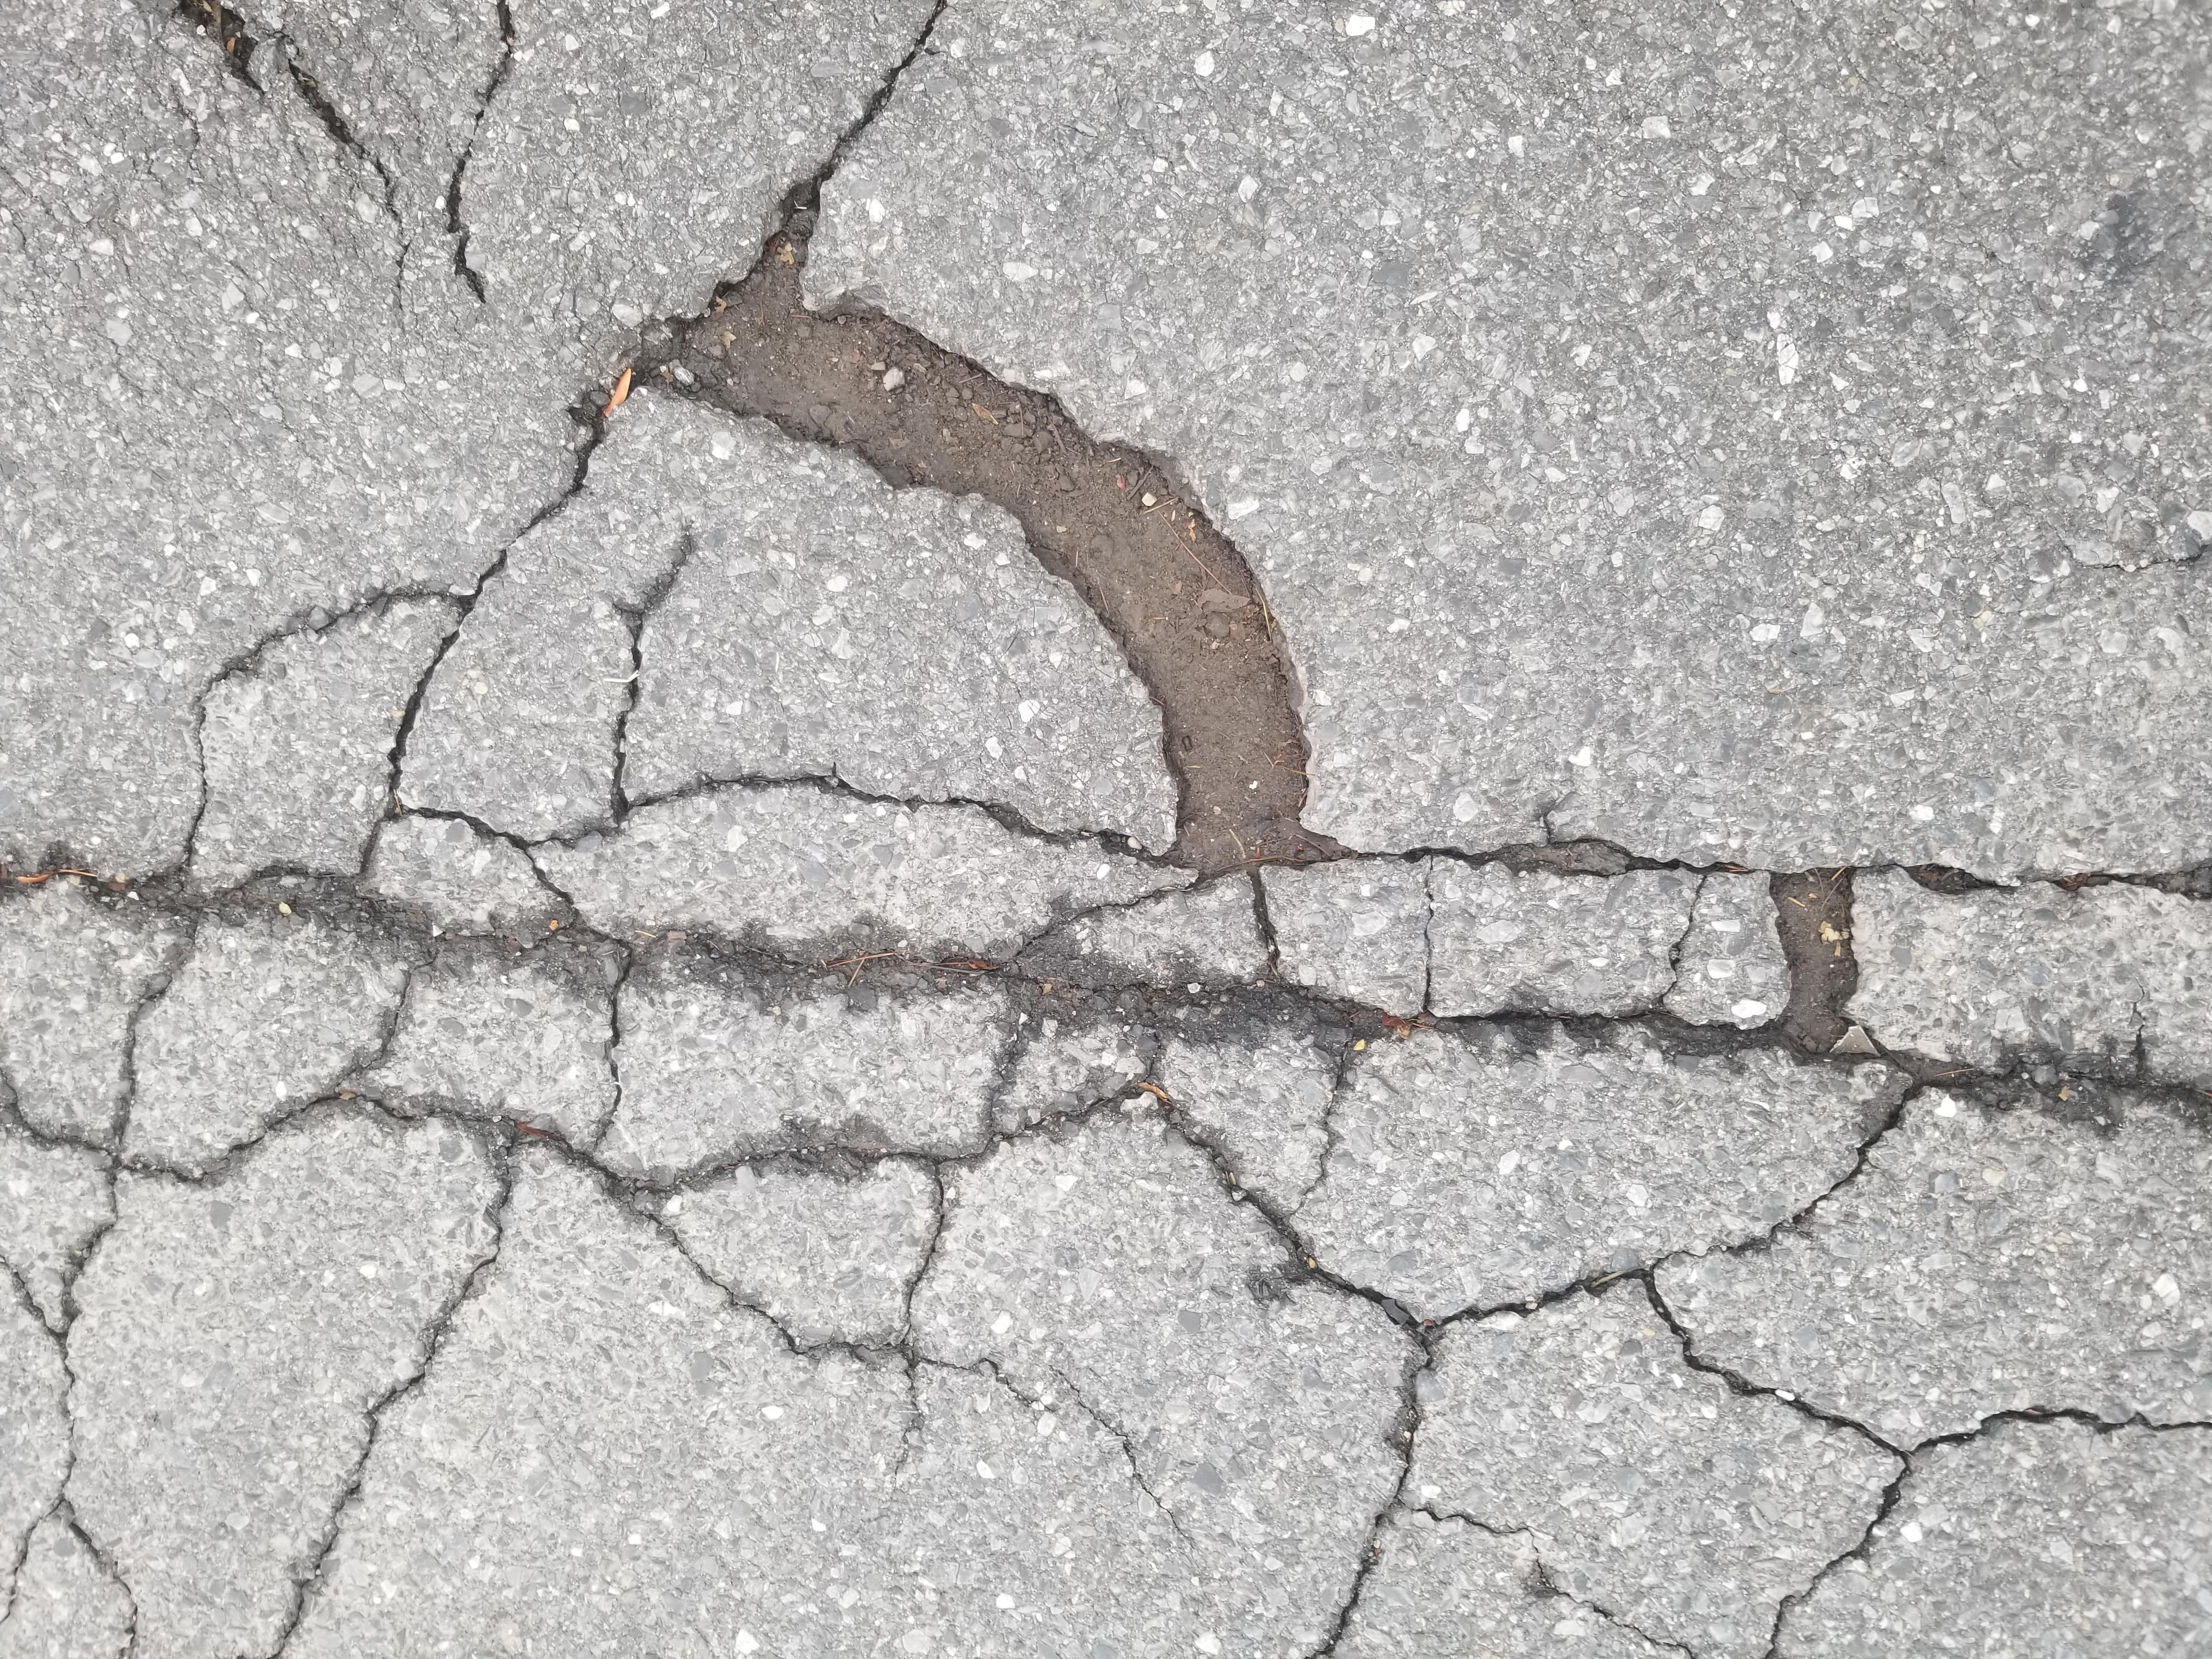alligator-crack: (266, 0, 1197, 1659)
crack: (0, 1288, 253, 1438), (0, 958, 282, 1070), (1810, 319, 2212, 392), (1188, 437, 1514, 521), (1916, 207, 2165, 303), (1193, 272, 1444, 366), (0, 37, 279, 113), (7, 193, 263, 274), (1313, 148, 1433, 272), (1526, 411, 1712, 457)
pothole: (1500, 465, 1932, 941), (1181, 763, 1569, 992)
